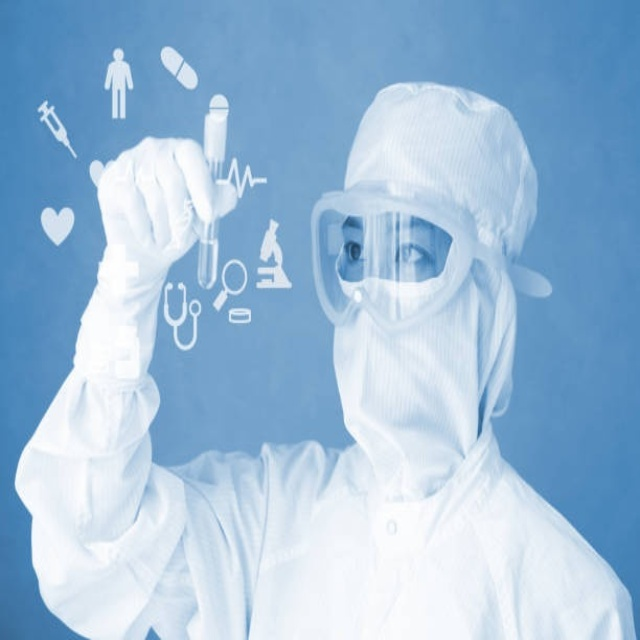Gafas: (310, 187, 501, 329)
Guantes: (75, 134, 230, 383)
Mascara: (329, 258, 507, 493)
